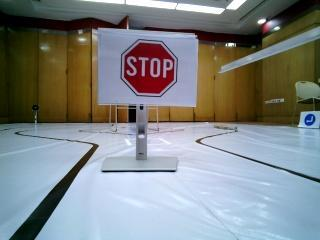stop: (103, 30, 200, 113)
